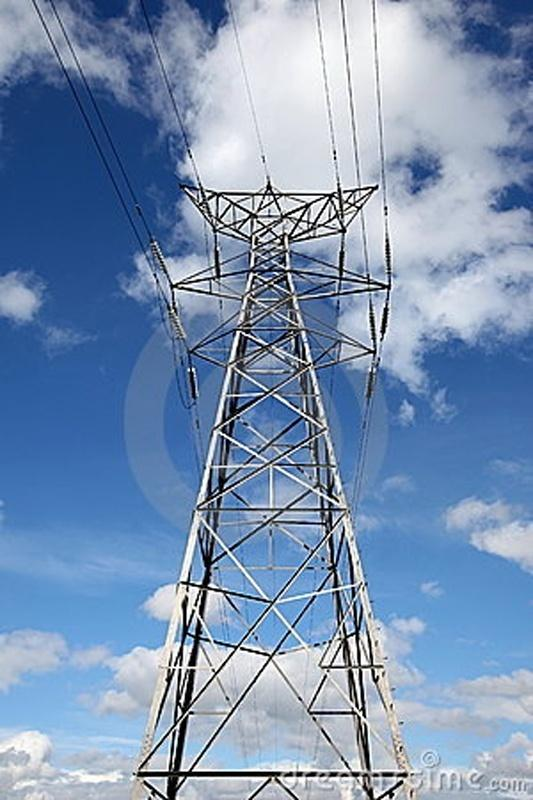power_tower: (126, 179, 420, 778)
